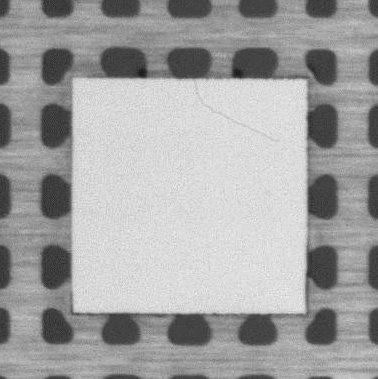DIE_CRACK: (193, 80, 295, 143)
